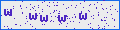w: (3, 8, 13, 17), (39, 14, 49, 23), (28, 13, 38, 21), (57, 14, 67, 22), (78, 13, 88, 21)
